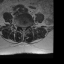CCS_normal: (23, 25, 24, 32)
LFS_severe_stenosis: (26, 24, 28, 29)
LLS_stenosis: (24, 25, 26, 30)
RFS_severe_stenosis: (19, 24, 21, 28)
RLS_stenosis: (21, 25, 23, 31)
